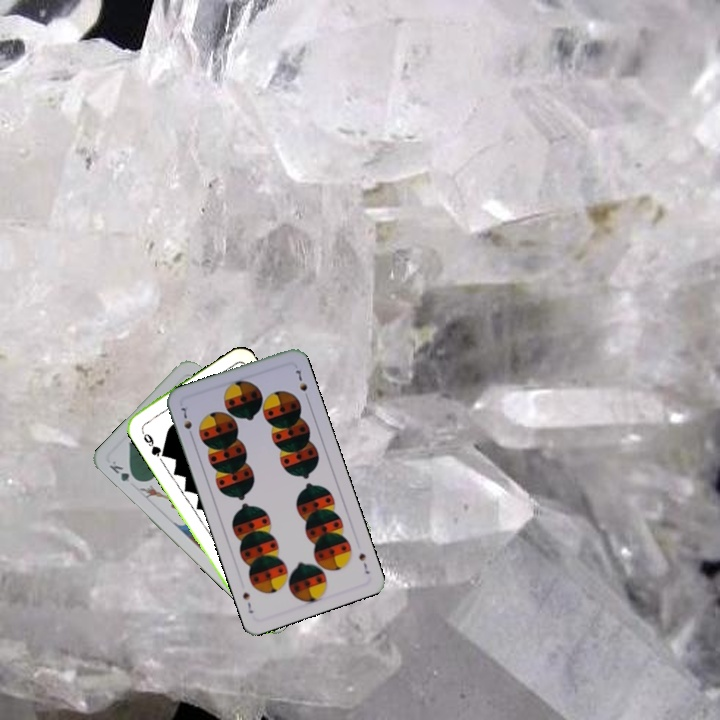G9: (137, 424, 166, 459)
GK: (105, 457, 141, 484)
S7: (177, 402, 196, 441), (355, 549, 372, 577)
